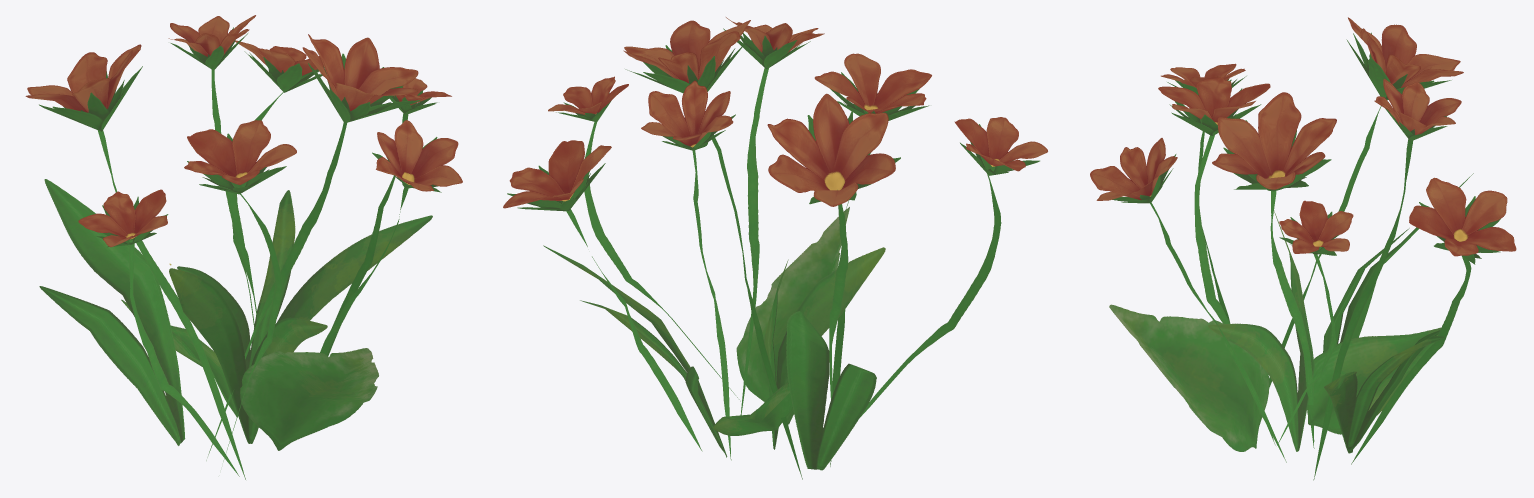
File: MSH_fwOF_Flowers_03_B.fbx
3 renders of one model, left to right at view 1: azimuth 30°, elevation 25°; view 2: azimuth 150°, elevation 25°; view 3: azimuth 270°, elevation 25°, orthographic. The views are drawn at different scales.
Visible parts, largest first — view 1: MSH_fwOF_Flowers_03_B; view 2: MSH_fwOF_Flowers_03_B; view 3: MSH_fwOF_Flowers_03_B.
Boxes of the visible parts, left/top/right/bottom form: MSH_fwOF_Flowers_03_B: left=25, top=15, right=462, bottom=479; MSH_fwOF_Flowers_03_B: left=503, top=17, right=1047, bottom=479; MSH_fwOF_Flowers_03_B: left=1090, top=17, right=1516, bottom=480.
Size of the model in its own units: 0.3862 by 0.365 by 0.3565.
